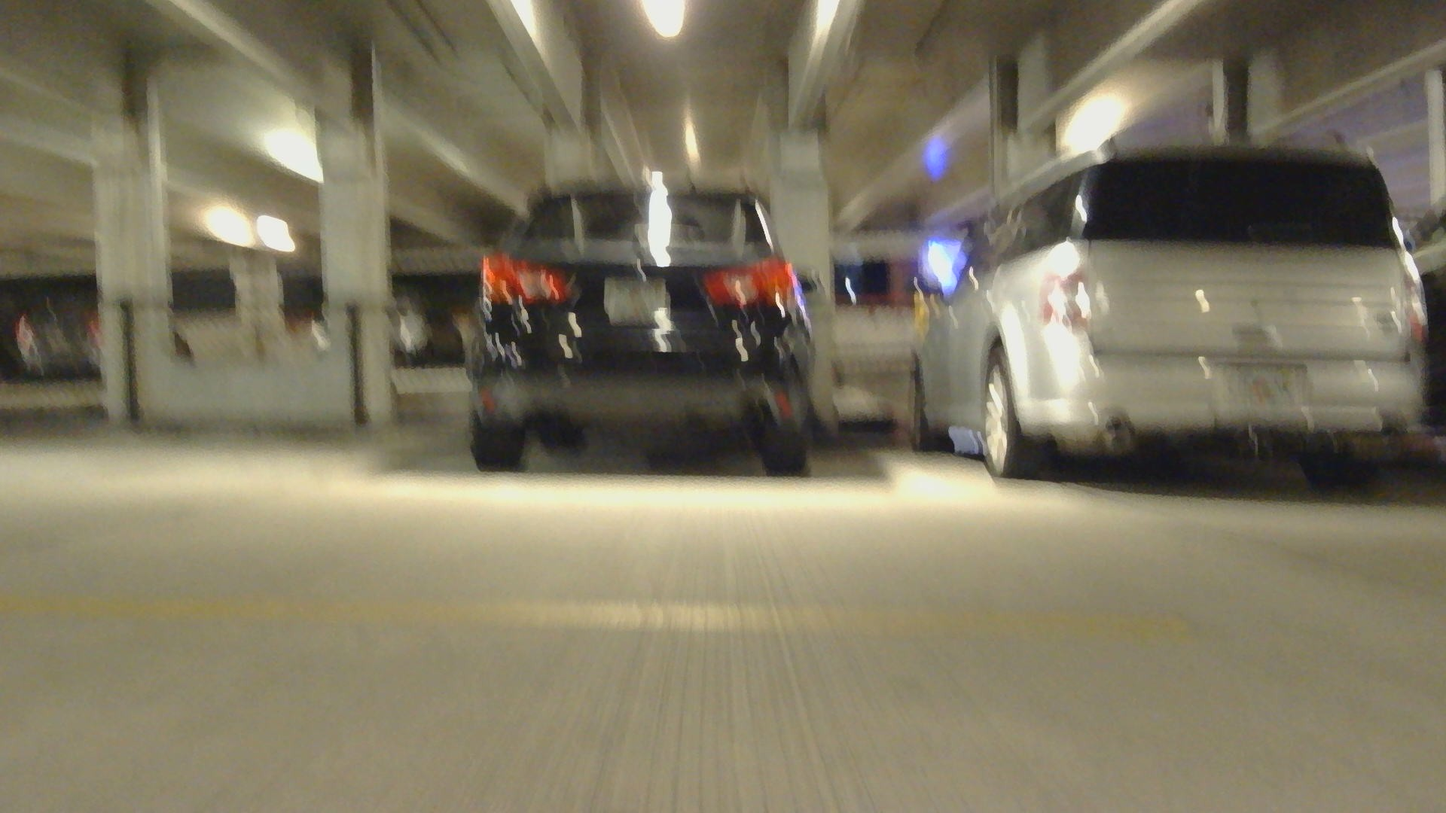empty_spot: (29, 433, 378, 470)
occupied_spot: (900, 135, 1430, 498), (467, 187, 815, 471)
